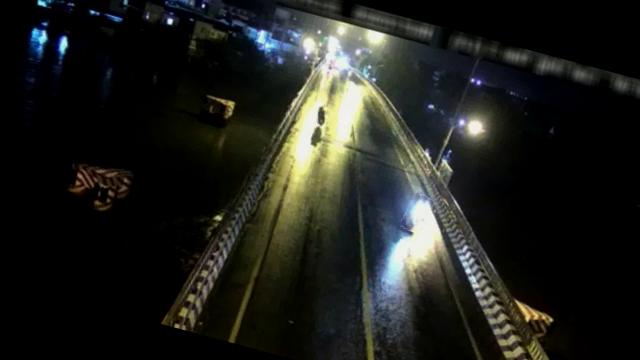Bike: (400, 191, 433, 235), (314, 103, 328, 127)
